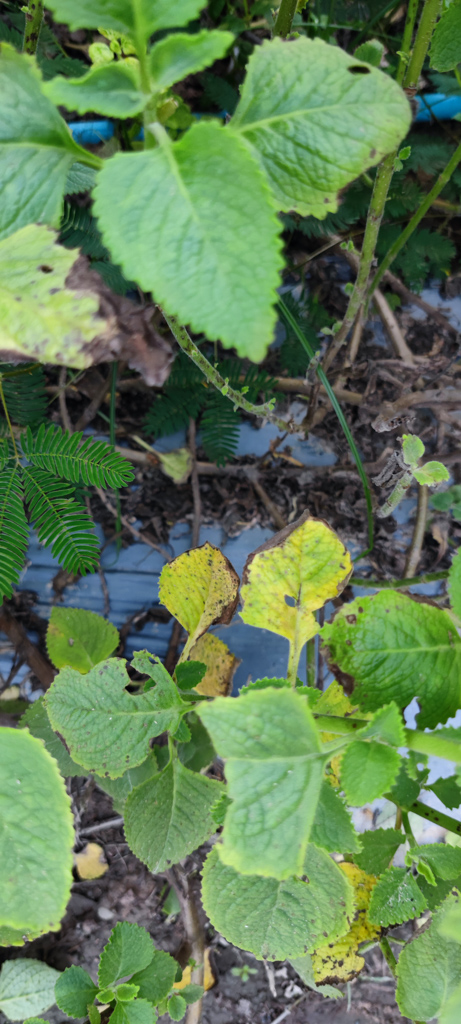Pepper yellow leaf: (246, 509, 337, 682), (306, 857, 387, 991), (158, 539, 236, 657), (178, 633, 245, 700)
